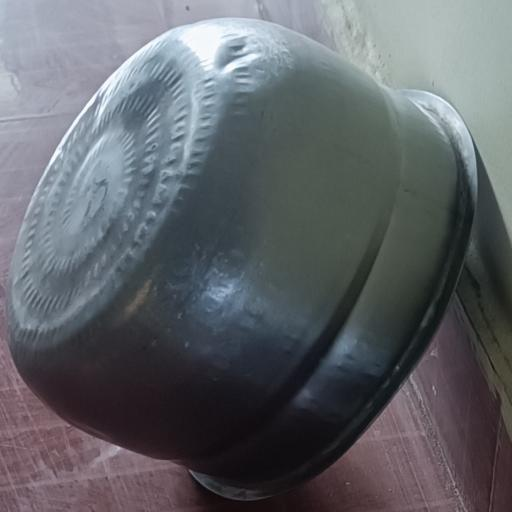vessel: (8, 19, 475, 499)
